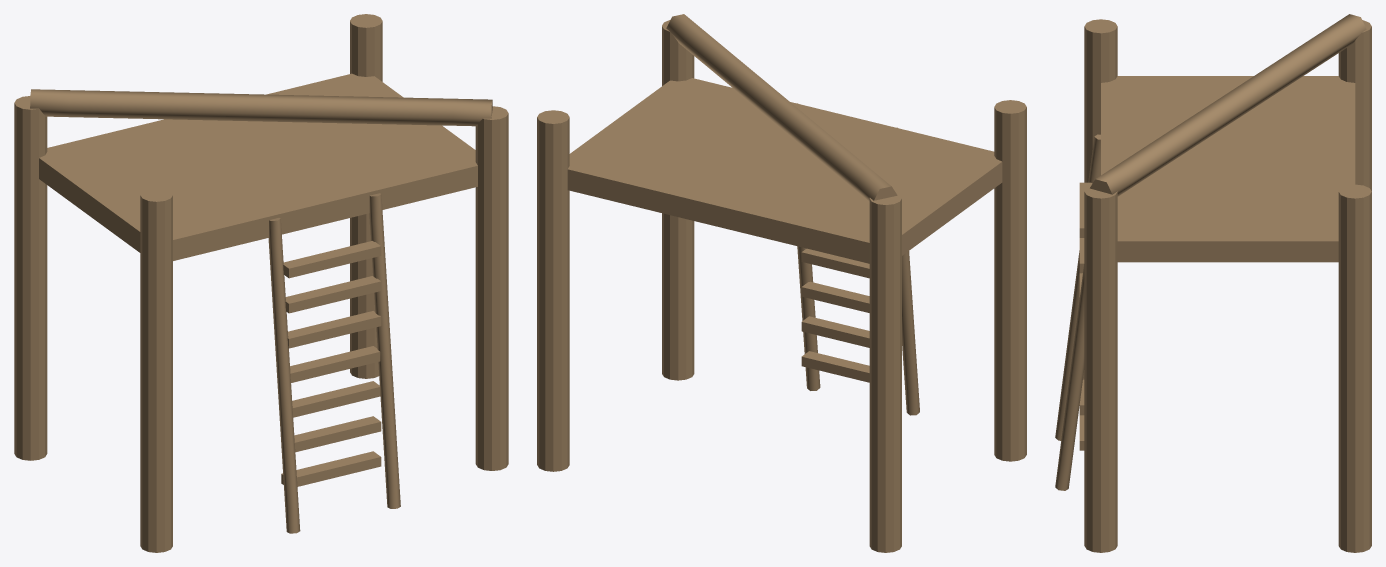
Rendered from zoo-and-safari-park-builder-climbing-frame-deb8fd70__21466.glb.
The picture shows the model from 3 angles, left to right: view 1: azimuth 30°, elevation 25°; view 2: azimuth 150°, elevation 25°; view 3: azimuth 270°, elevation 25°; orthographic projection.
Parts seen in each view (by area): view 1: climbing-frame; view 2: climbing-frame; view 3: climbing-frame.
Part boxes in pixels (x1,y1,x2,y2): climbing-frame: [14, 14, 508, 552]; climbing-frame: [537, 14, 1026, 552]; climbing-frame: [1055, 14, 1371, 552].
Size of the model in its own units: 2.17 by 2.06 by 1.62.
